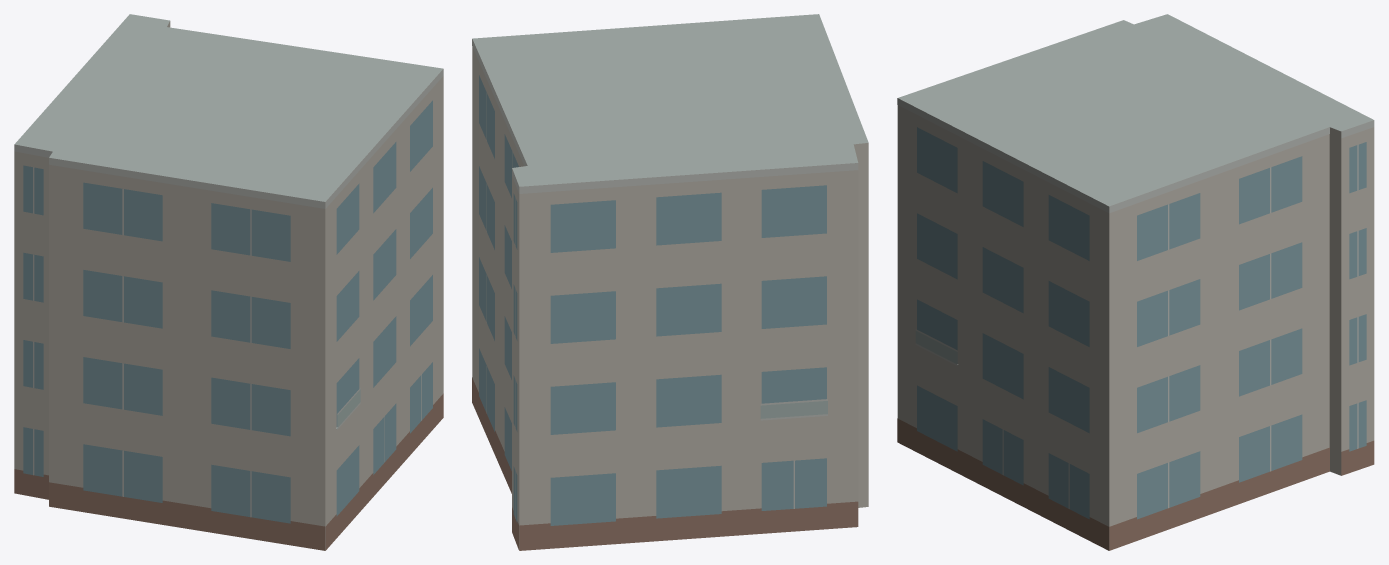
The model's file is survey-upis-32844869.glb.
3 renders of one model, left to right at view 1: azimuth 30°, elevation 25°; view 2: azimuth 150°, elevation 25°; view 3: azimuth 270°, elevation 25°, orthographic. The views are drawn at different scales.
Parts seen in each view (by area): view 1: survey-upis-32844869.tmp; view 2: survey-upis-32844869.tmp; view 3: survey-upis-32844869.tmp.
Part boxes in pixels (x1,y1,x2,y2): survey-upis-32844869.tmp: (14, 14, 443, 550); survey-upis-32844869.tmp: (472, 14, 868, 550); survey-upis-32844869.tmp: (897, 14, 1374, 550).
Bounding box in the file's own units: 14.63 × 12.2 × 15.31.
